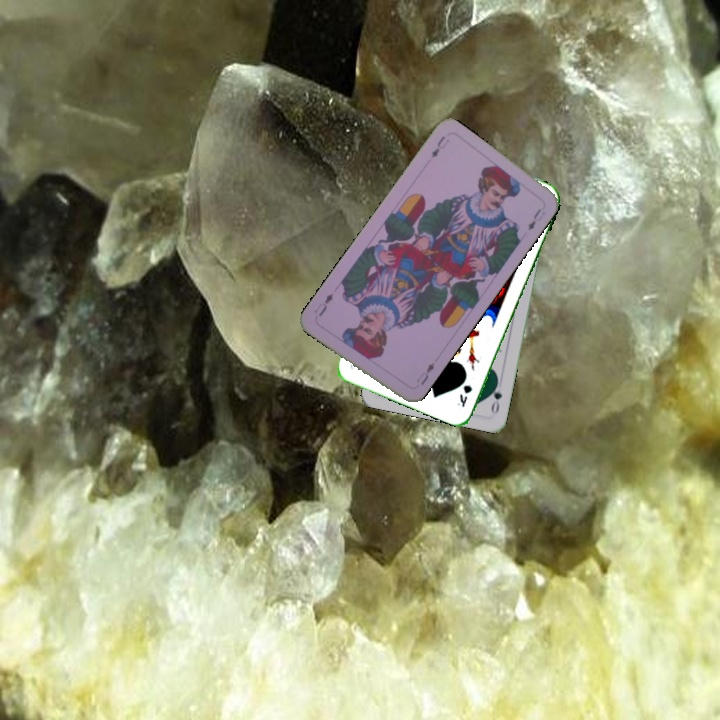EU: (412, 358, 437, 388), (427, 132, 452, 160)
GK: (453, 381, 475, 410)
GO: (487, 376, 505, 416)
